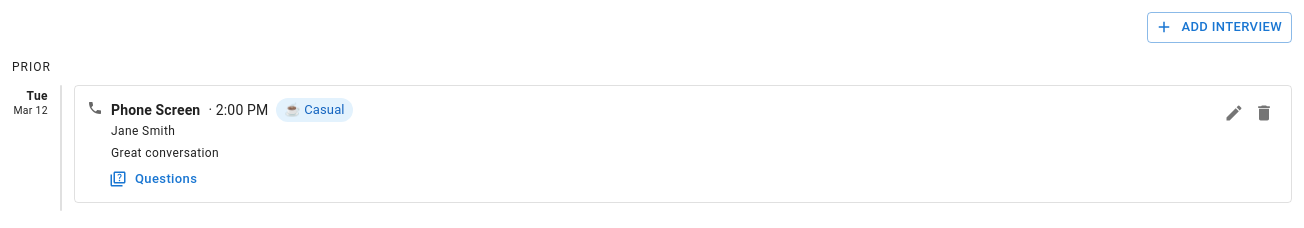
interviewsTab › delete Interview › shows a confirmation prompt when Delete interview is clicked
This screenshot has width=1304, height=228.
Click the button named "Delete interview" at point(1264, 113), box [1249,98,1279,128]
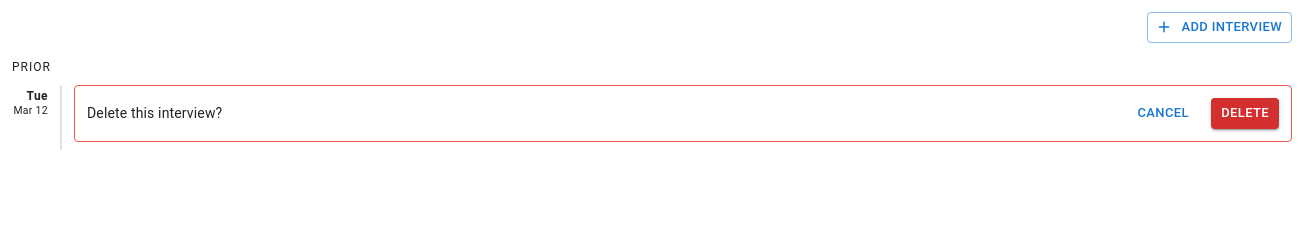
Now the text "Delete this interview?" is shown, box [87,105,222,121]
